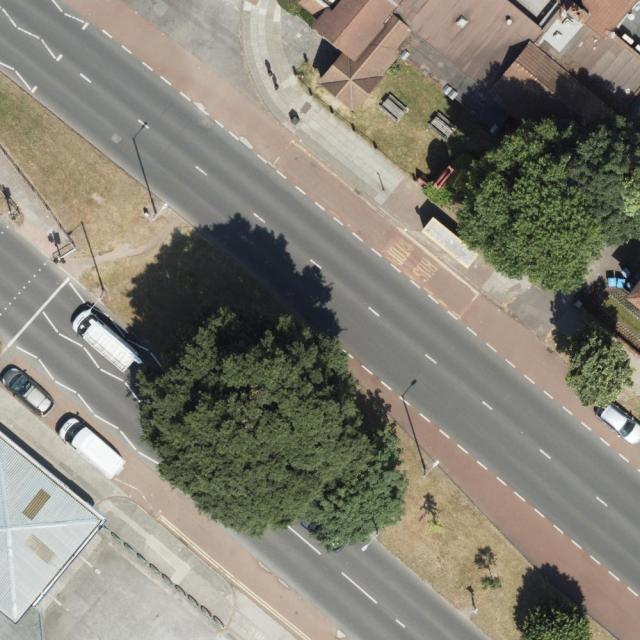roof: (288, 0, 640, 130), (0, 425, 108, 623)
